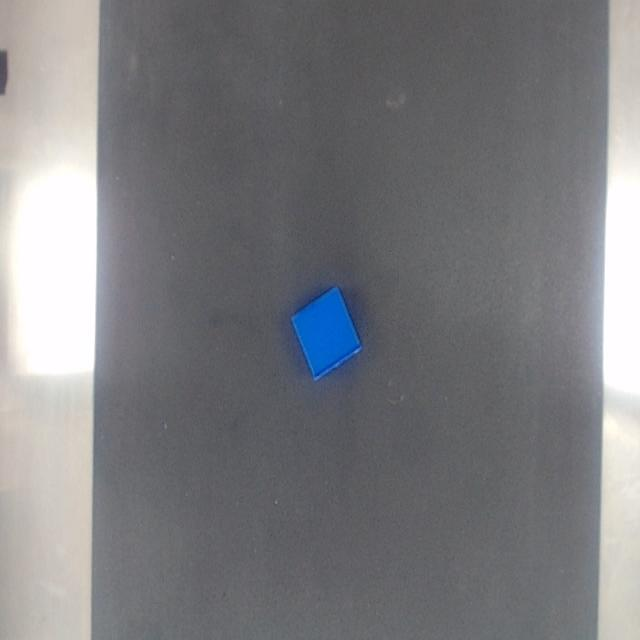Azul: (291, 287, 361, 380)
